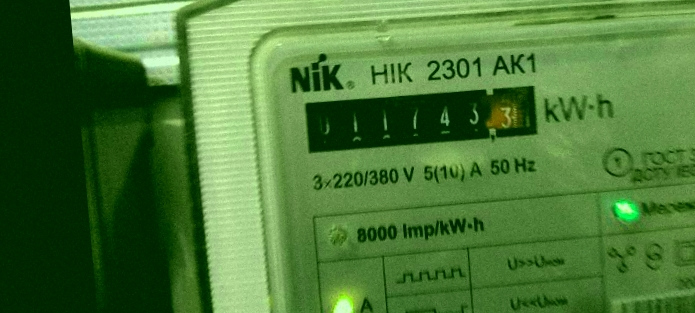0: (315, 109, 331, 138)
1: (376, 103, 390, 132), (347, 106, 359, 134)
3: (465, 98, 481, 126), (496, 104, 513, 130)
4: (435, 101, 451, 129)
7: (405, 100, 422, 130)
screen: (291, 70, 550, 167)
